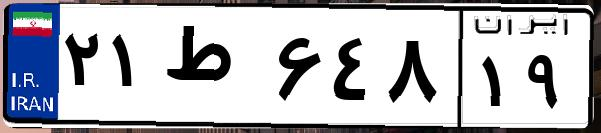1: (475, 38, 525, 113), (110, 28, 158, 98)
2: (57, 26, 110, 100)
4: (330, 28, 385, 110)
6: (270, 28, 330, 110)
8: (385, 28, 445, 110)
9: (525, 38, 570, 115)
ط: (158, 20, 270, 120)
